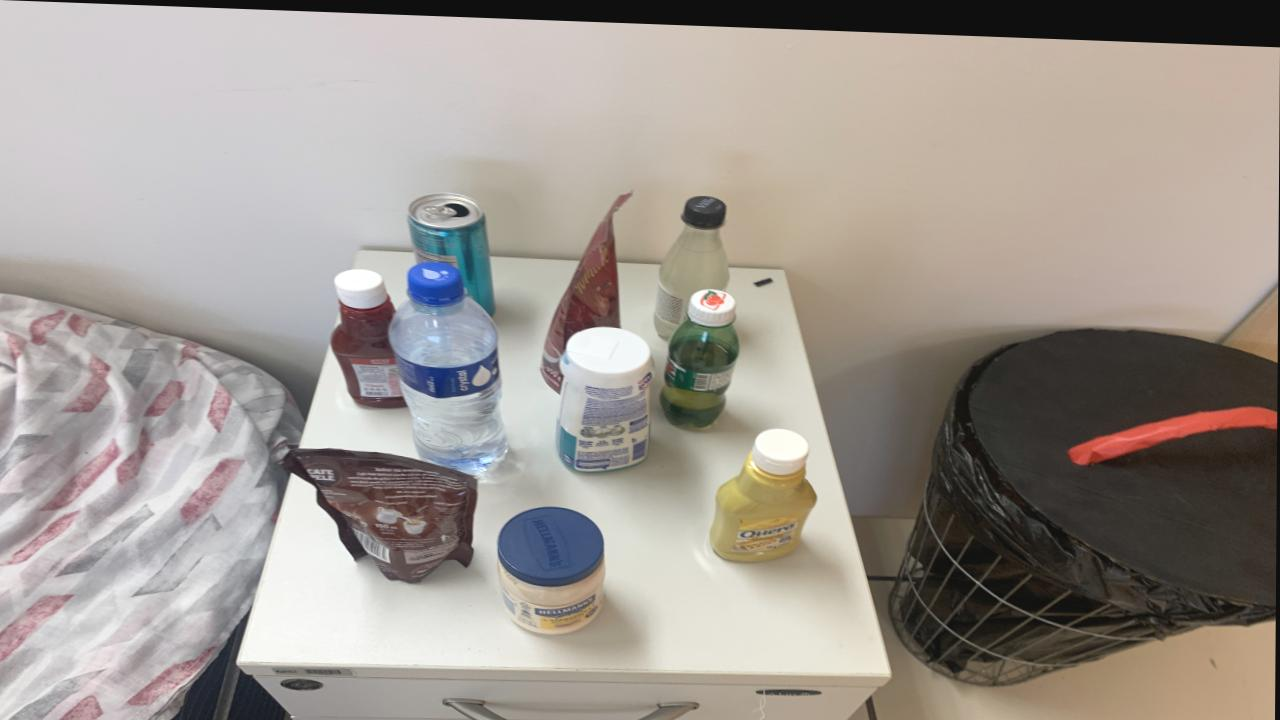Cleaner-Cleanup_Items: (558, 322, 653, 468)
Coffee-Pantry_Items: (282, 446, 477, 580)
Guarana-Drinks: (660, 285, 741, 424)
Ketchup-Pantry_Items: (331, 265, 405, 405)
Mayonnaise-Pantry_Items: (499, 502, 607, 630)
Mustard-Pantry_Items: (712, 422, 817, 556)
Soda-Drinks: (656, 191, 729, 334)
Tea-Drinks: (409, 189, 496, 311)
Tomato_Sauce-Pantry_Items: (540, 187, 634, 388)
Water_Bottle-Drinks: (388, 258, 508, 470)
